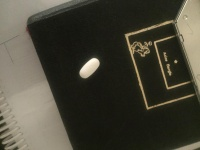Centik Buskopan: (78, 57, 100, 79)
